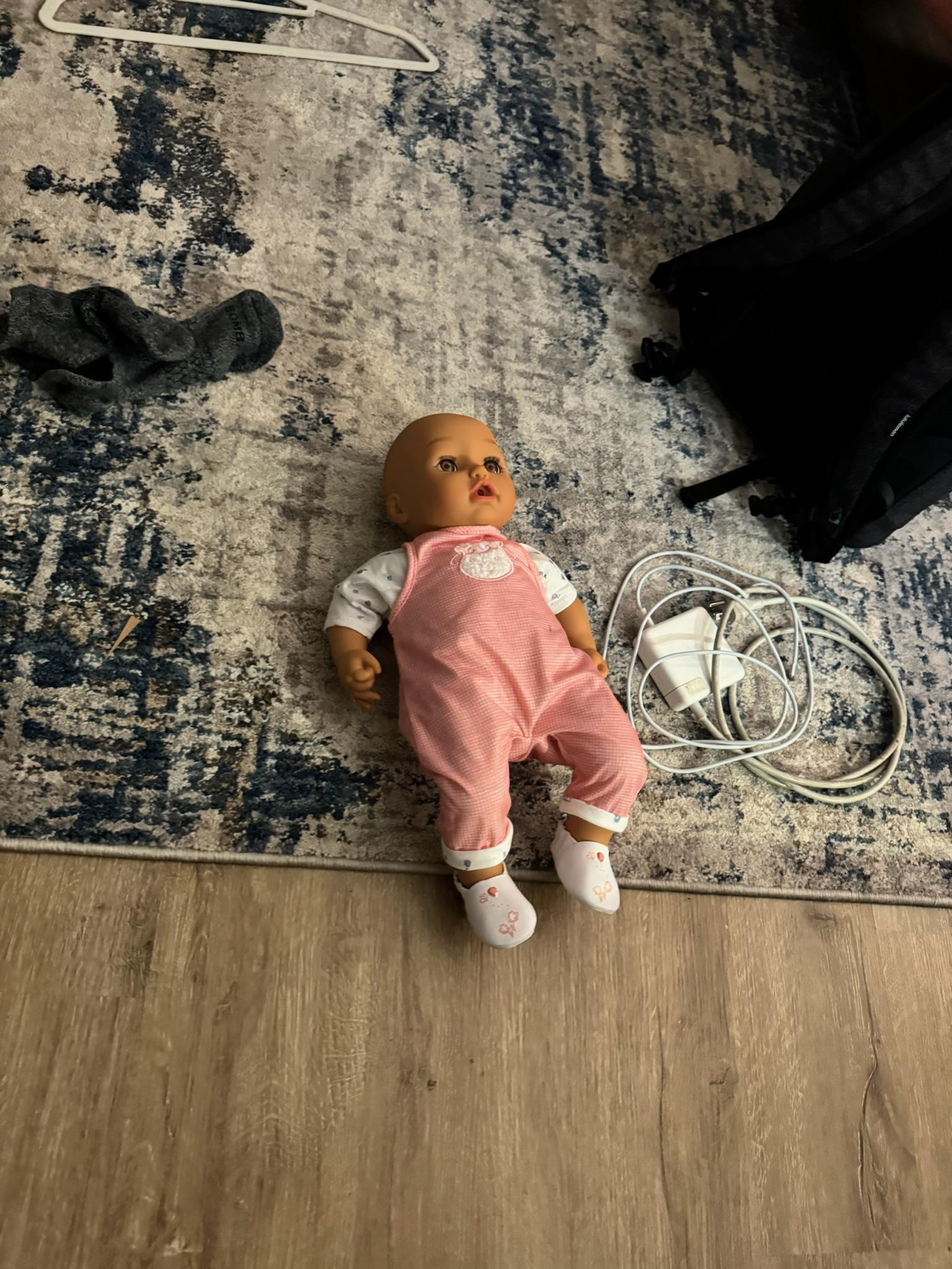baby: (312, 386, 657, 983)
